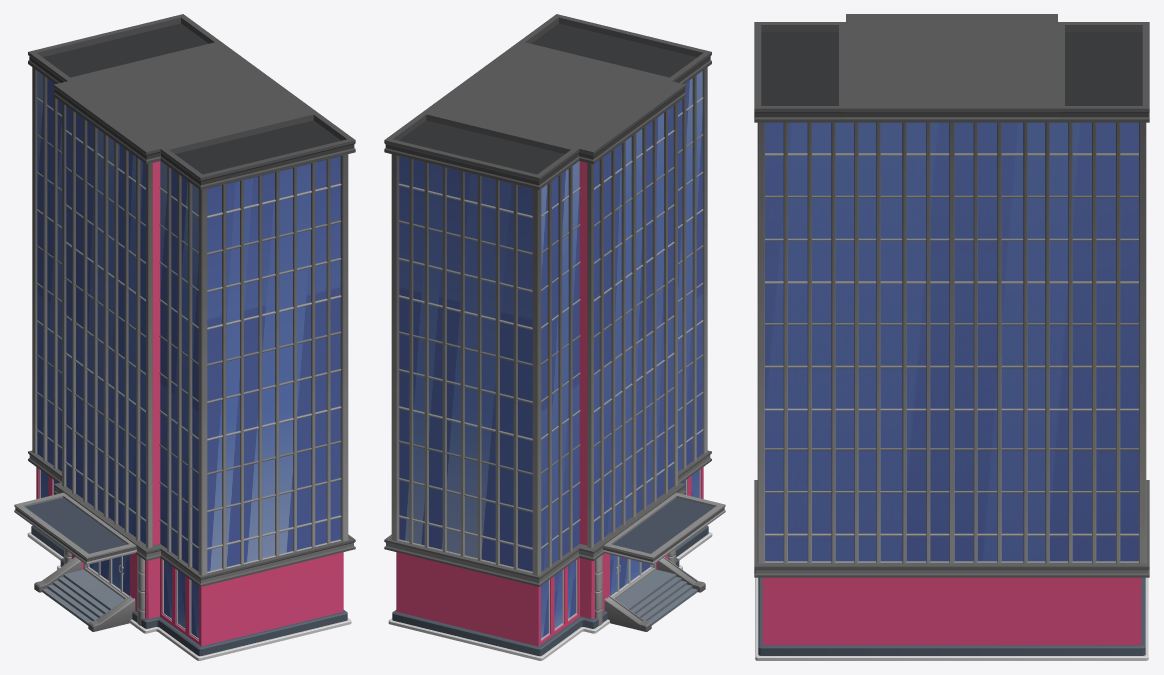
File: Building_17_2_EE.fbx
The picture shows the model from 3 angles, left to right: view 1: azimuth 30°, elevation 25°; view 2: azimuth 150°, elevation 25°; view 3: azimuth 270°, elevation 25°; orthographic projection. The views are drawn at different scales.
Visible parts, largest first — view 1: Building_17_2_EE; view 2: Building_17_2_EE; view 3: Building_17_2_EE.
Part boxes in pixels (x1=…): Building_17_2_EE: x1=14, y1=14, x2=355, y2=660; Building_17_2_EE: x1=384, y1=14, x2=725, y2=660; Building_17_2_EE: x1=754, y1=14, x2=1149, y2=660.
Size of the model in its own units: 857 by 1805 by 1168.
